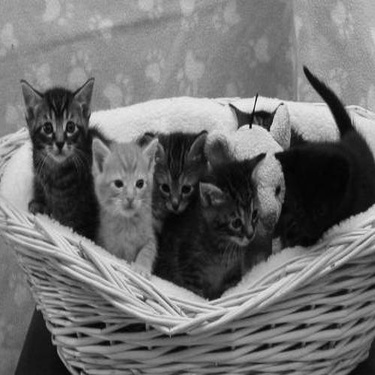cat: (229, 63, 371, 246), (160, 153, 262, 299), (18, 76, 94, 248), (207, 135, 276, 273), (93, 136, 159, 276), (143, 127, 212, 233)
